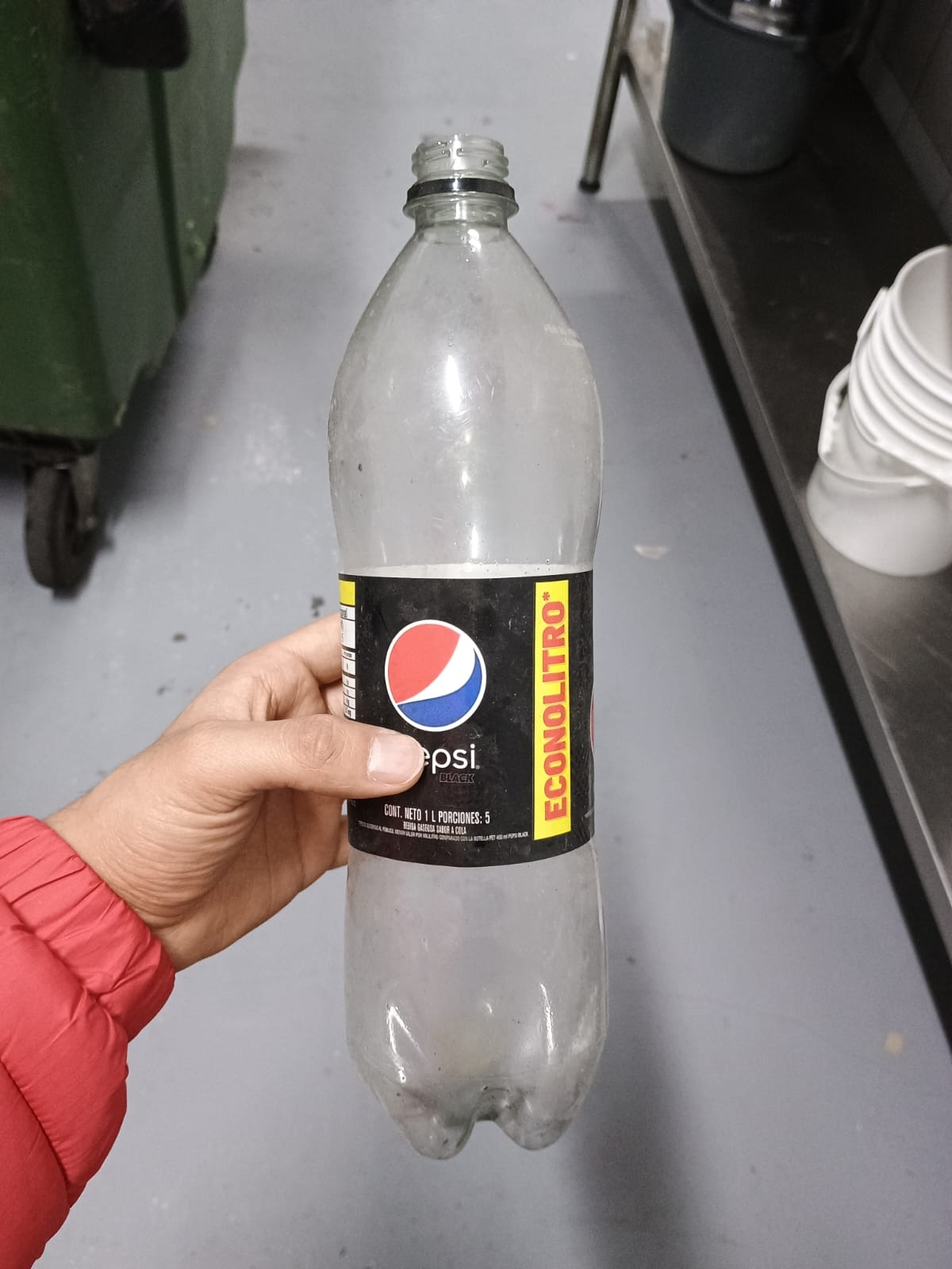Plastico: (324, 135, 604, 1161)
